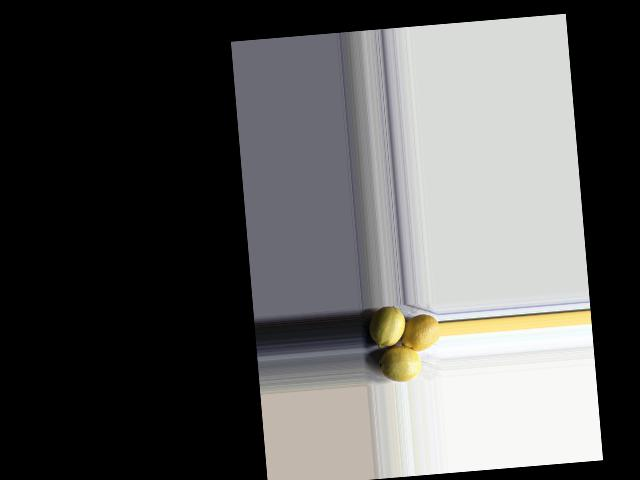lemon: (375, 347, 422, 384)
